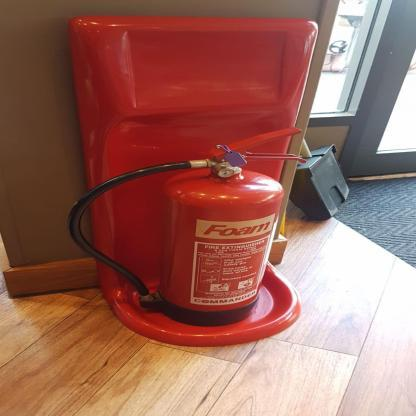Fire Extinguisher: (58, 114, 310, 337)
